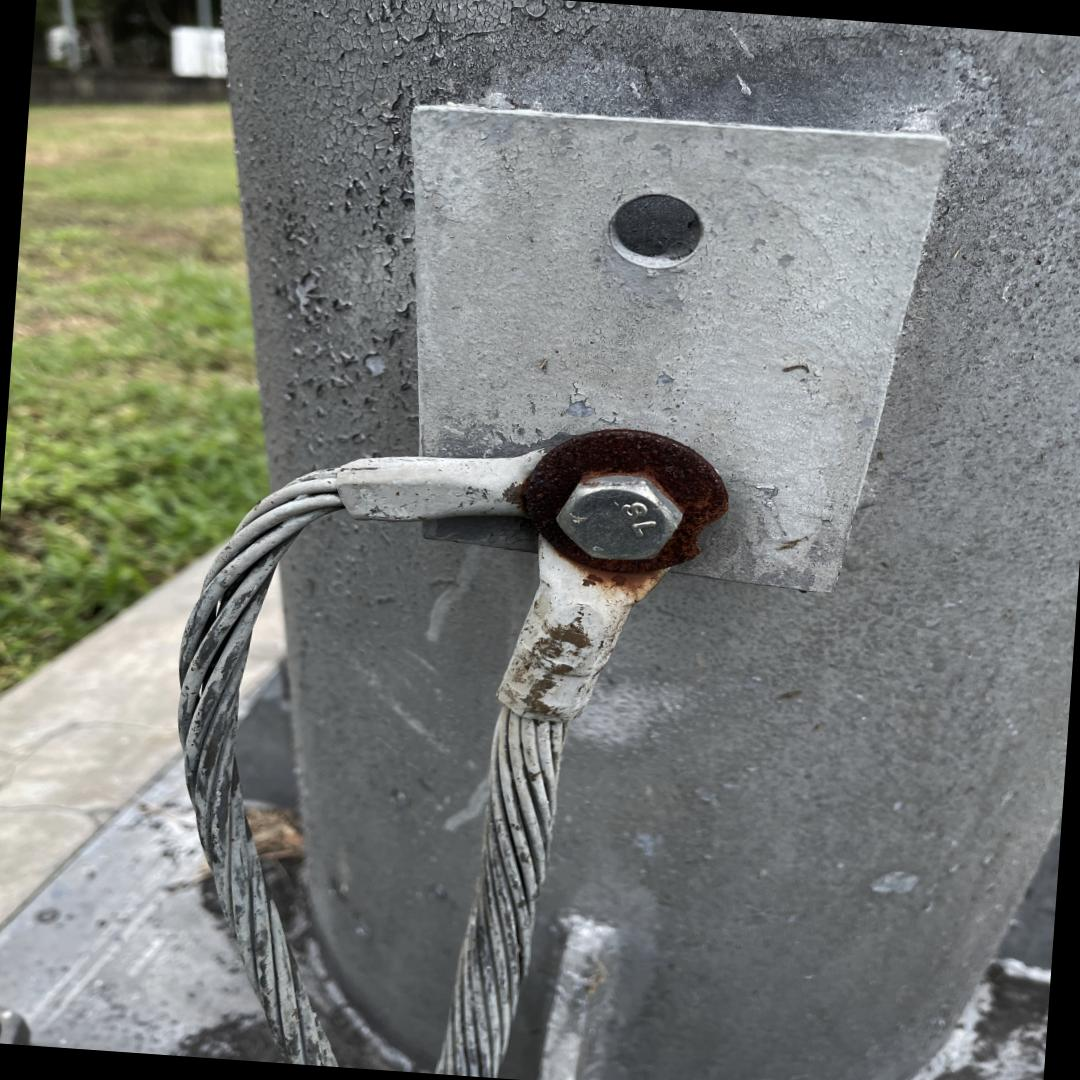Metal: (176, 0, 1080, 1080)
Metal corroido: (510, 429, 728, 603)
Tornillo sin corrosion: (555, 477, 683, 559)
